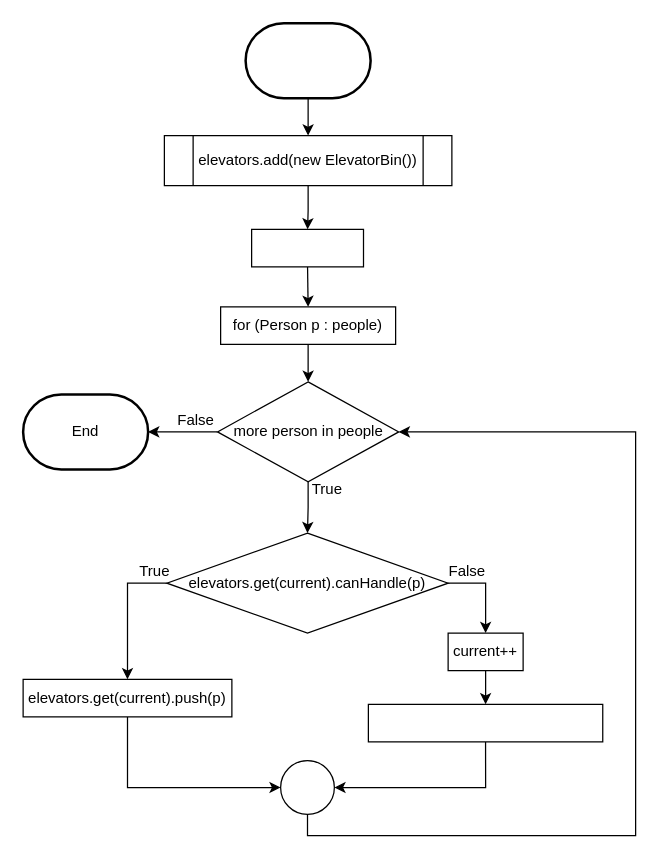
This 668x868 diagram has some shape labels left out. The centre of each missing label's shape, as x and y in pixels:
"elevators.add(new ElevatorBin(p))" goes at [485,722].
"int current = 0" goes at [307,247].
"Start" goes at [307,60].
